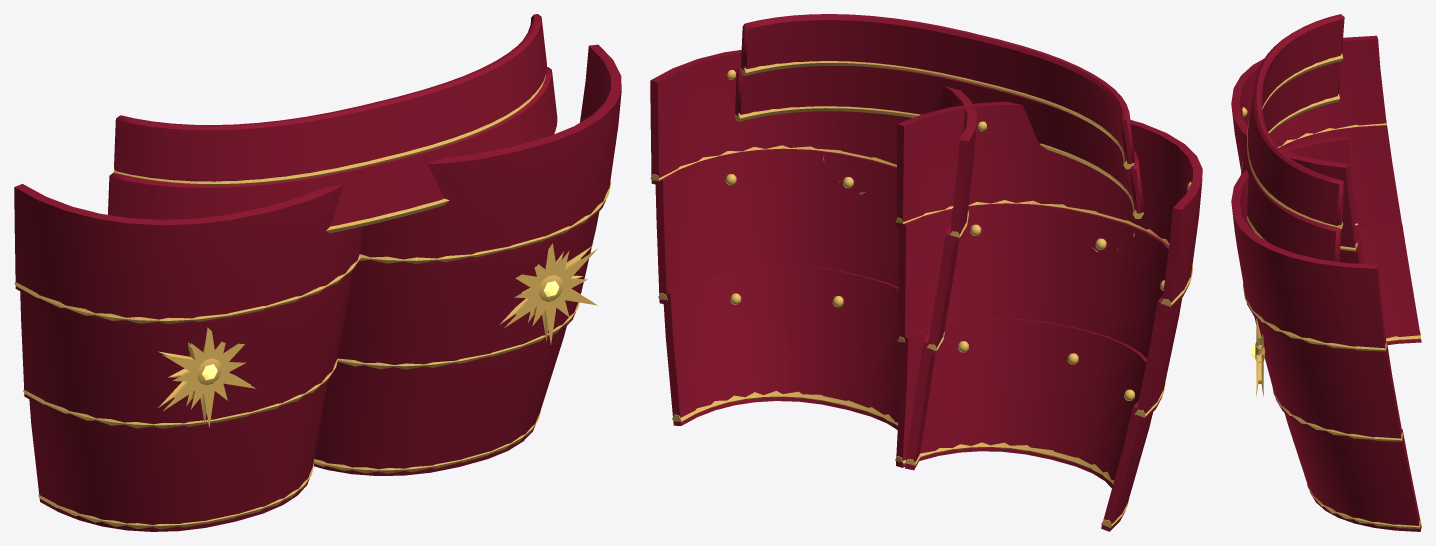
The model's file is boss_crimson_glory_leggings.glb.
The picture shows the model from 3 angles, left to right: view 1: azimuth 30°, elevation 25°; view 2: azimuth 150°, elevation 25°; view 3: azimuth 270°, elevation 25°; orthographic projection. The views are drawn at different scales.
Parts seen in each view (by area): view 1: AT_thigh_R, AT_thigh_L, boss_crimson_glory_leggings; view 2: AT_thigh_R, AT_thigh_L, boss_crimson_glory_leggings; view 3: AT_thigh_L, AT_thigh_R, boss_crimson_glory_leggings.
Part boxes in pixels (bbox=[...]): AT_thigh_R: bbox=[14, 184, 362, 531]; AT_thigh_L: bbox=[313, 44, 621, 475]; boss_crimson_glory_leggings: bbox=[108, 14, 557, 232]; AT_thigh_R: bbox=[895, 101, 1202, 531]; AT_thigh_L: bbox=[650, 50, 976, 470]; boss_crimson_glory_leggings: bbox=[734, 14, 1144, 218]; AT_thigh_L: bbox=[1231, 136, 1421, 531]; AT_thigh_R: bbox=[1231, 35, 1421, 344]; boss_crimson_glory_leggings: bbox=[1241, 14, 1344, 261].
Size of the model in its own units: 0.5129 by 0.3481 by 0.177.
